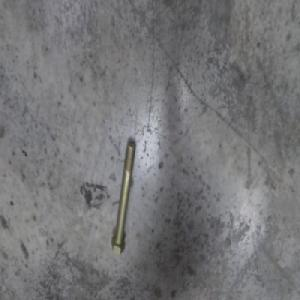Bolt: (110, 141, 135, 261)
